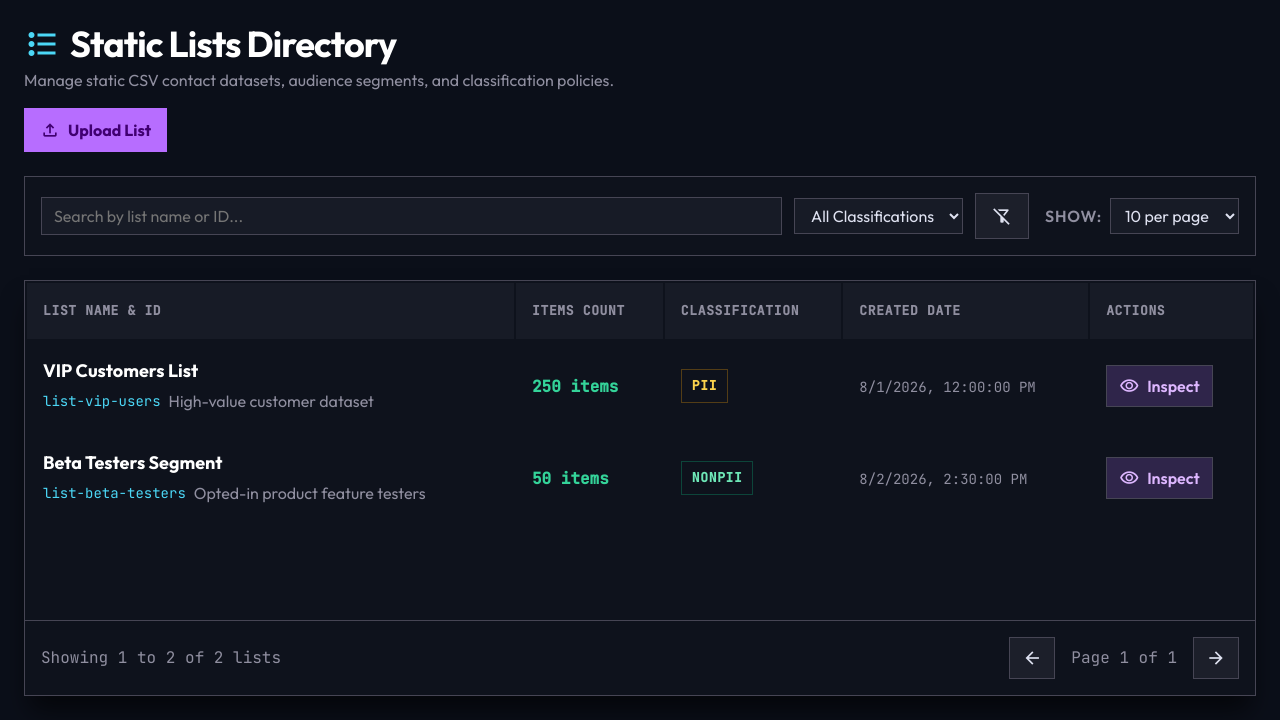
Test: StaticListsPage Component › filters static lists by search term
Expected: the text "VIP Customers List" is shown, [43,359,198,382]
Type "Beta" into the field with test id "static-list-search-input" at (412, 216), box [41,197,782,235]
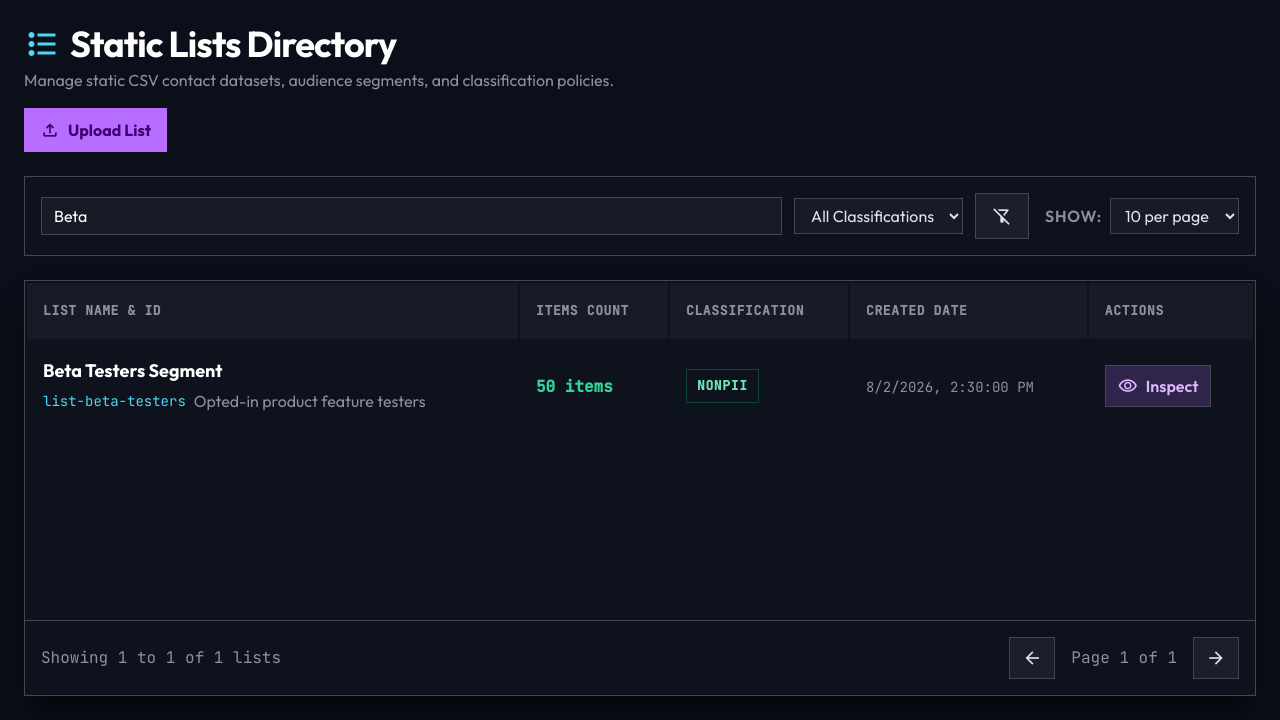
Expected: the text "Beta Testers Segment" is shown, [43,359,222,382]
Now the text "VIP Customers List" is gone
